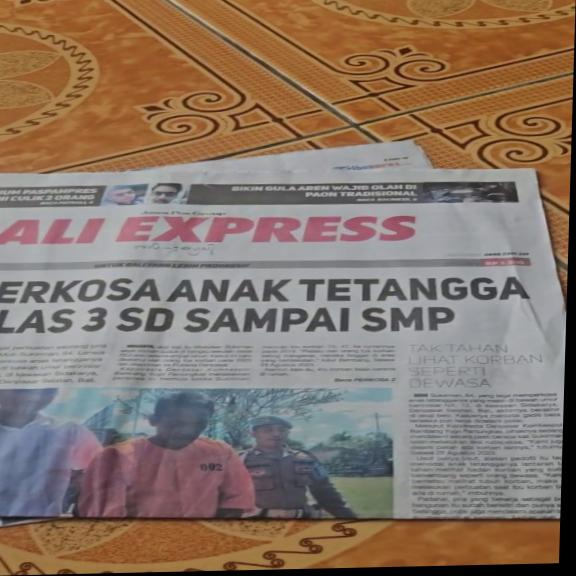Kertas: (0, 169, 565, 530)
